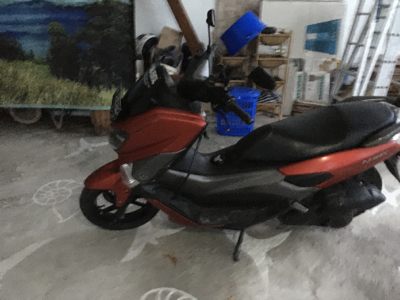moto: (80, 46, 389, 252)
